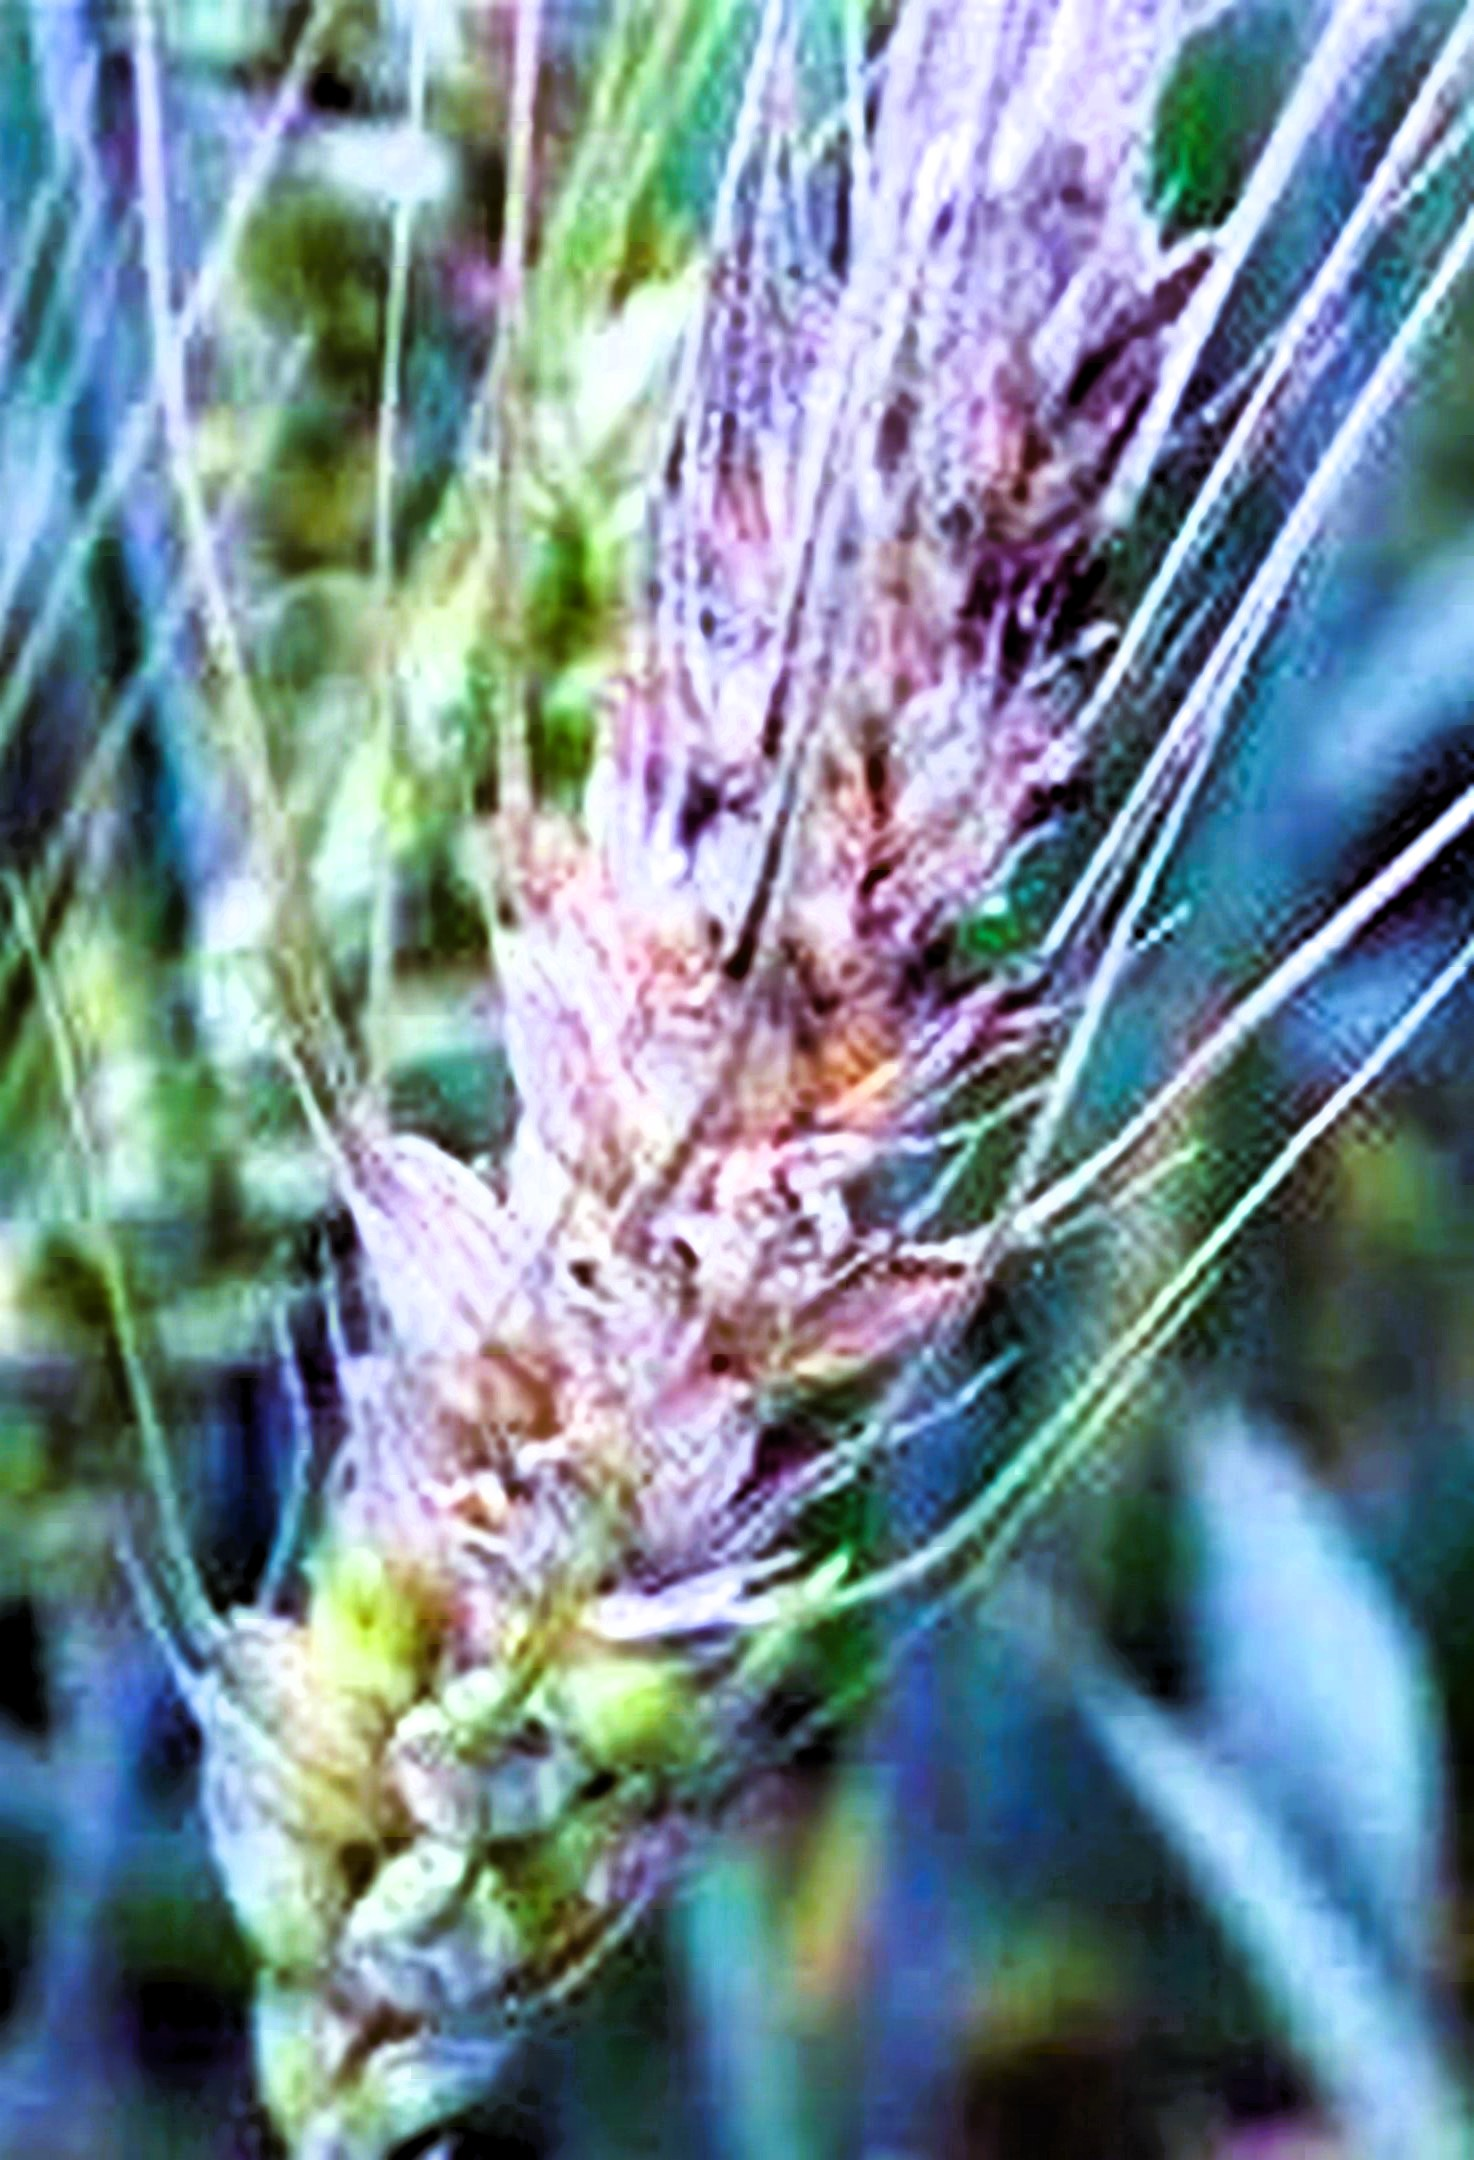Wheat scab: (182, 876, 957, 2053)
